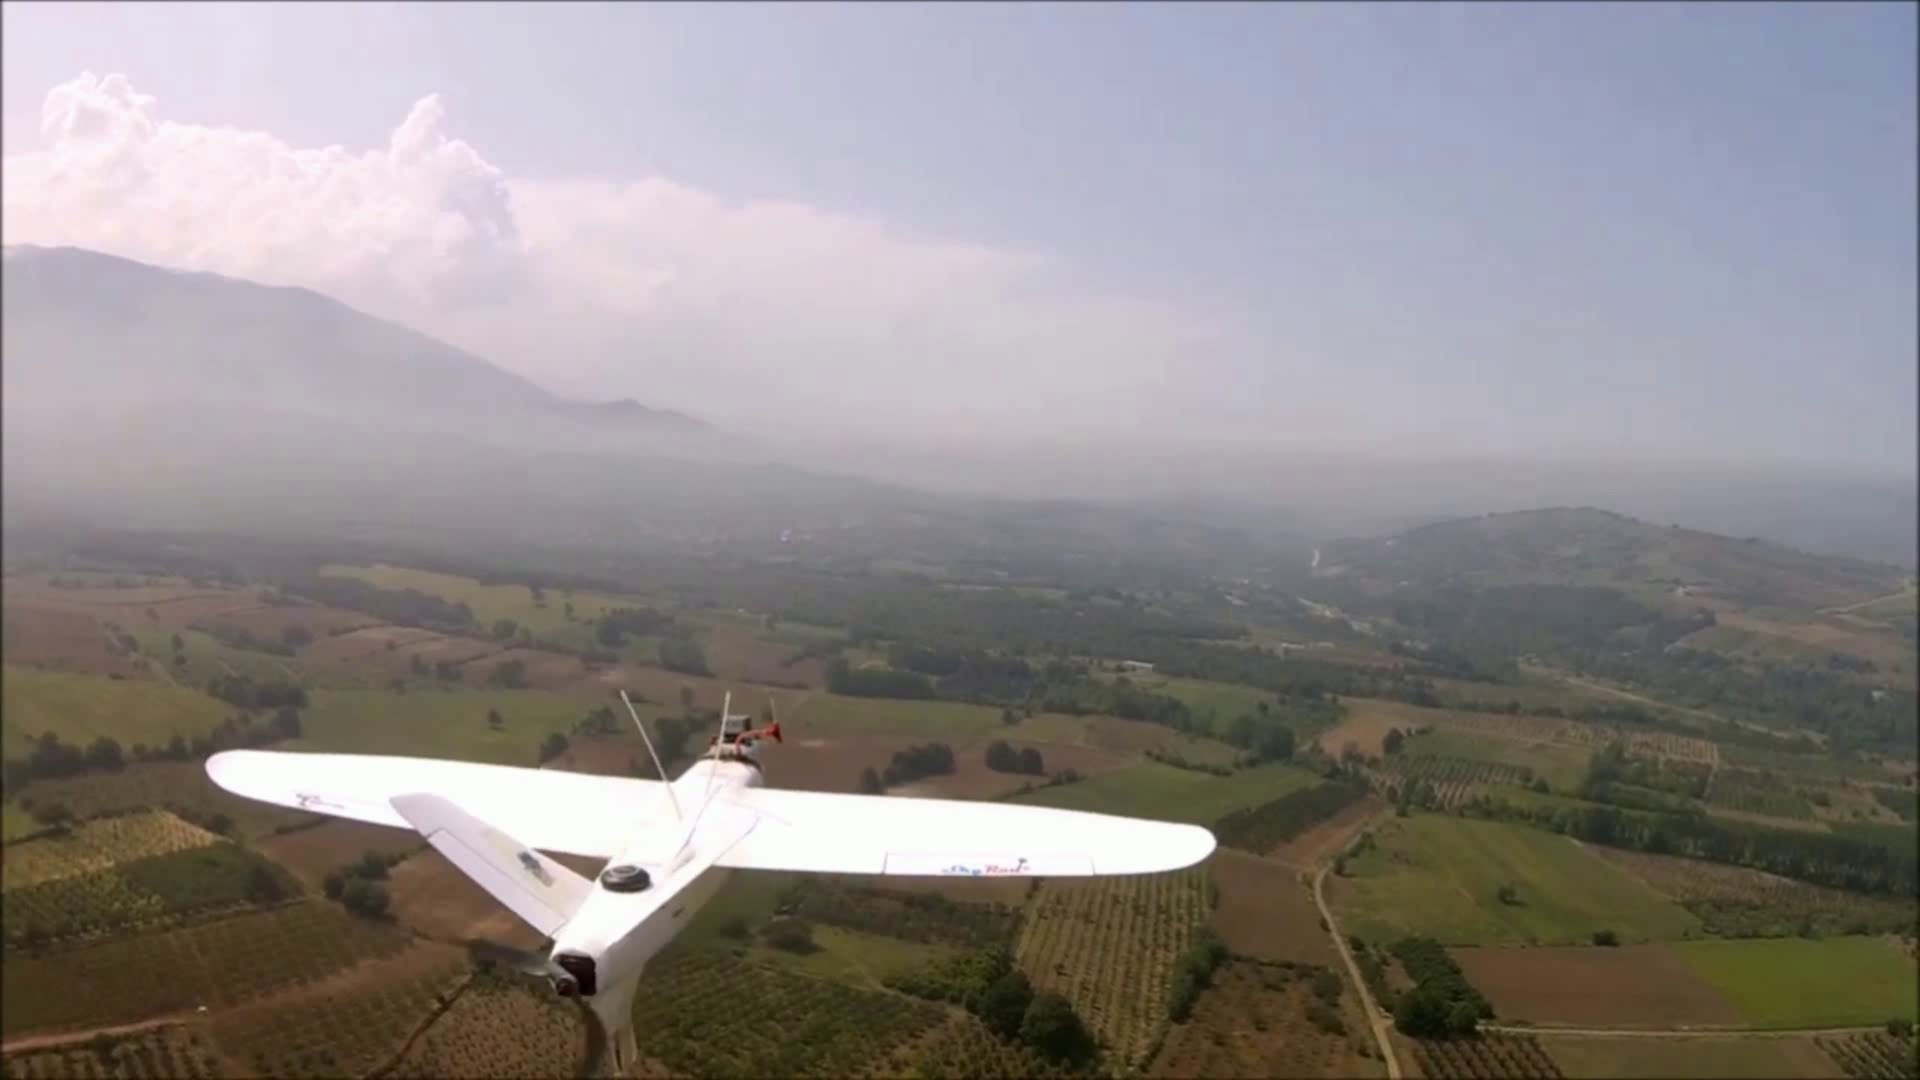airplane: (204, 693, 1220, 1068)
